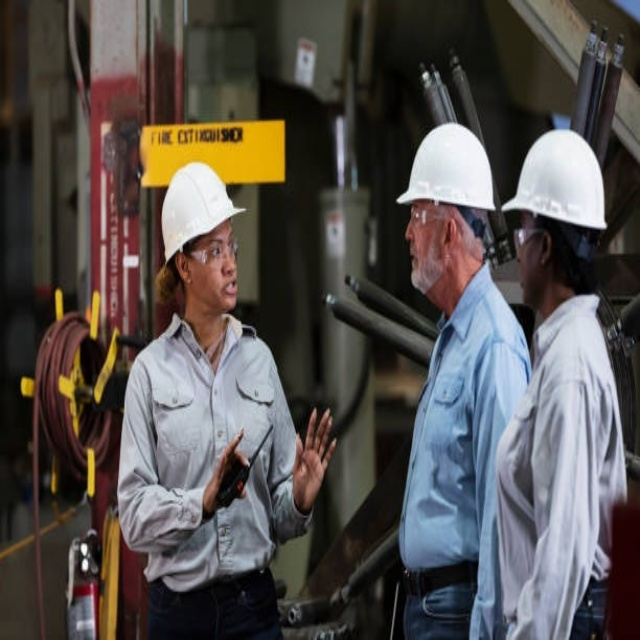Gafas: (185, 235, 241, 262), (512, 221, 544, 250), (408, 205, 447, 228)
Sin_guantes: (293, 407, 337, 508), (203, 425, 250, 515)
Sin_mascara: (408, 242, 429, 279), (216, 273, 239, 304)
